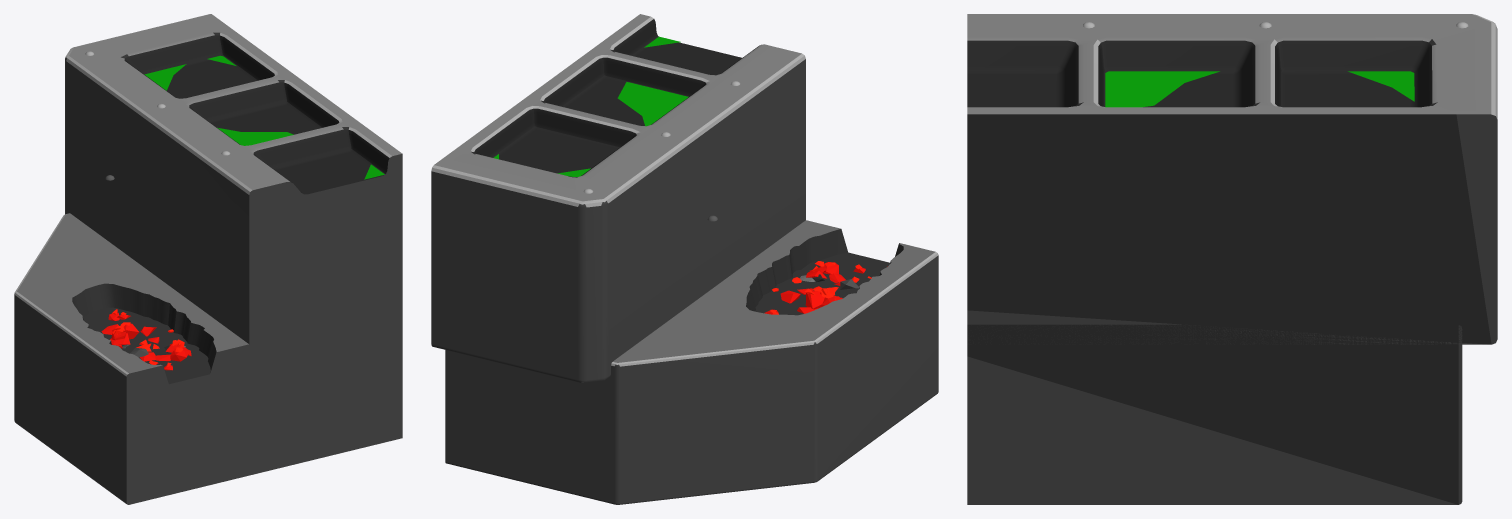
Rendered from window_block_tl_wreck.glb.
The picture shows the model from 3 angles, left to right: view 1: azimuth 30°, elevation 25°; view 2: azimuth 150°, elevation 25°; view 3: azimuth 270°, elevation 25°; orthographic projection. The views are drawn at different scales.
Parts seen in each view (by area): view 1: tower.001, plinth.001, shard1_0.001, shard0_0.001; view 2: tower.001, plinth.001, shard1_0.001; view 3: tower.001, plinth.001, shard1_0.001, shard0_0.001.
Boxes of the visible parts, x1,y1,x2,y2 form: tower.001: (65, 14, 402, 357); plinth.001: (14, 213, 402, 504); shard1_0.001: (217, 127, 293, 145); shard0_0.001: (144, 64, 186, 90); tower.001: (431, 14, 805, 382); plinth.001: (445, 220, 938, 504); shard1_0.001: (617, 82, 688, 126); tower.001: (967, 14, 1497, 344); plinth.001: (967, 324, 1462, 504); shard1_0.001: (1105, 71, 1219, 107); shard0_0.001: (1348, 71, 1414, 101).
Bounding box in the file's own units: 19.8 × 19.64 × 24.
